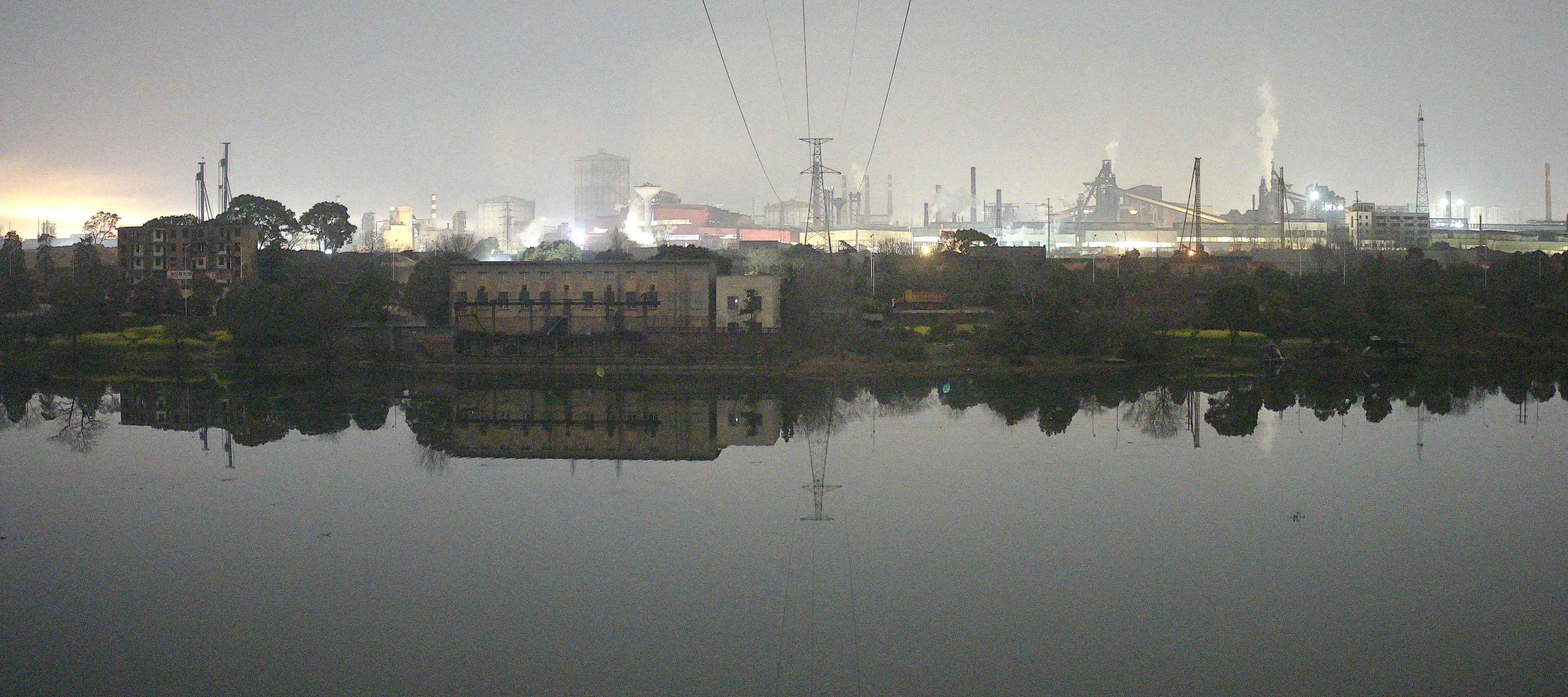工厂排烟: (1253, 68, 1281, 193), (613, 197, 676, 246), (927, 182, 983, 223), (518, 215, 552, 249), (1104, 135, 1122, 177), (850, 162, 871, 193)
